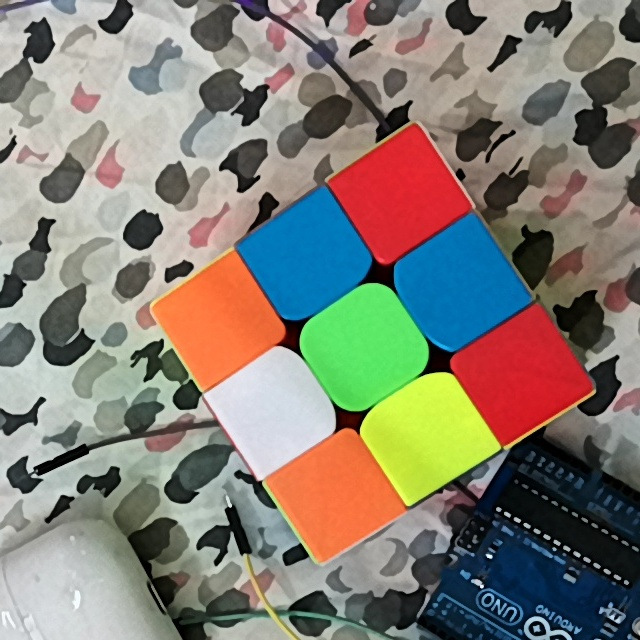tile: (424, 244, 497, 322), (361, 157, 435, 231), (328, 307, 402, 380), (298, 457, 374, 528), (397, 393, 465, 470), (488, 335, 558, 409), (242, 369, 309, 446), (272, 218, 340, 293), (187, 282, 256, 354)
